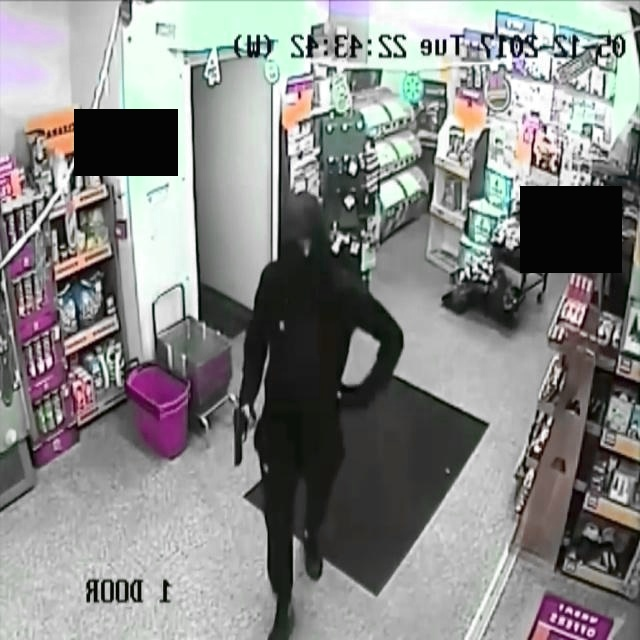gun: (217, 400, 261, 471)
